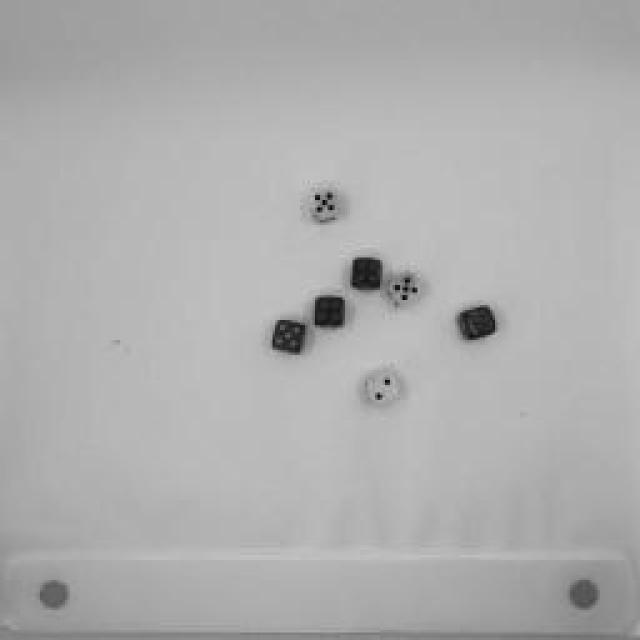dice_2: (450, 305, 500, 347), (359, 370, 409, 410)
dice_4: (349, 252, 386, 298), (314, 292, 346, 332)
dice_5: (268, 312, 308, 358), (388, 270, 428, 312), (304, 185, 344, 225)
